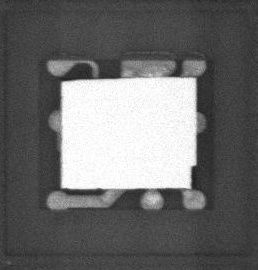DIE_BROKEN: (60, 75, 102, 82), (189, 163, 197, 189)
